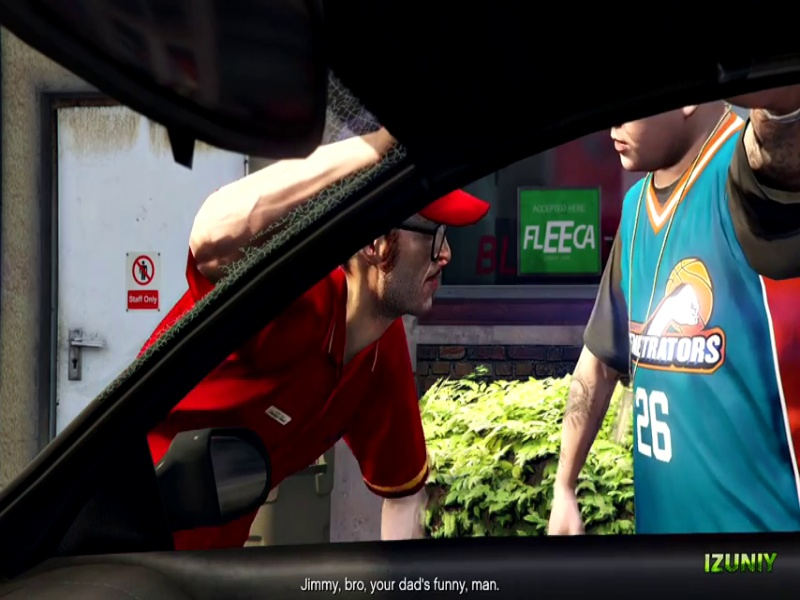licenseplate: (443, 150, 546, 221)
